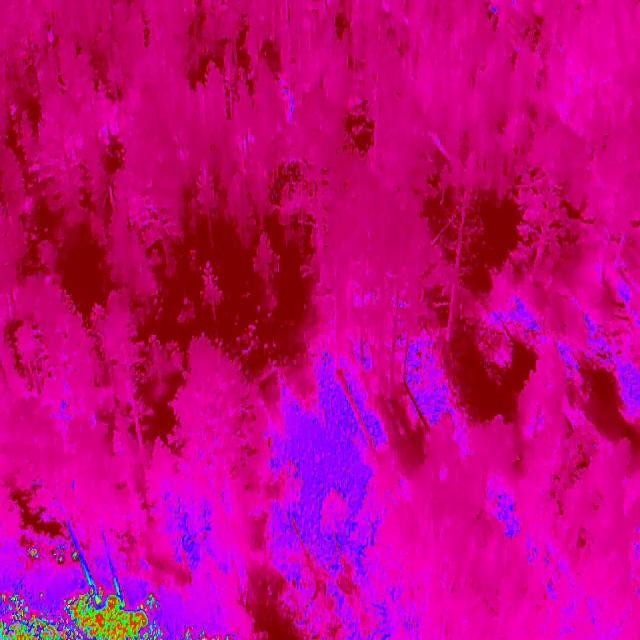fire: (0, 581, 172, 640), (28, 542, 82, 570), (184, 620, 234, 640)
